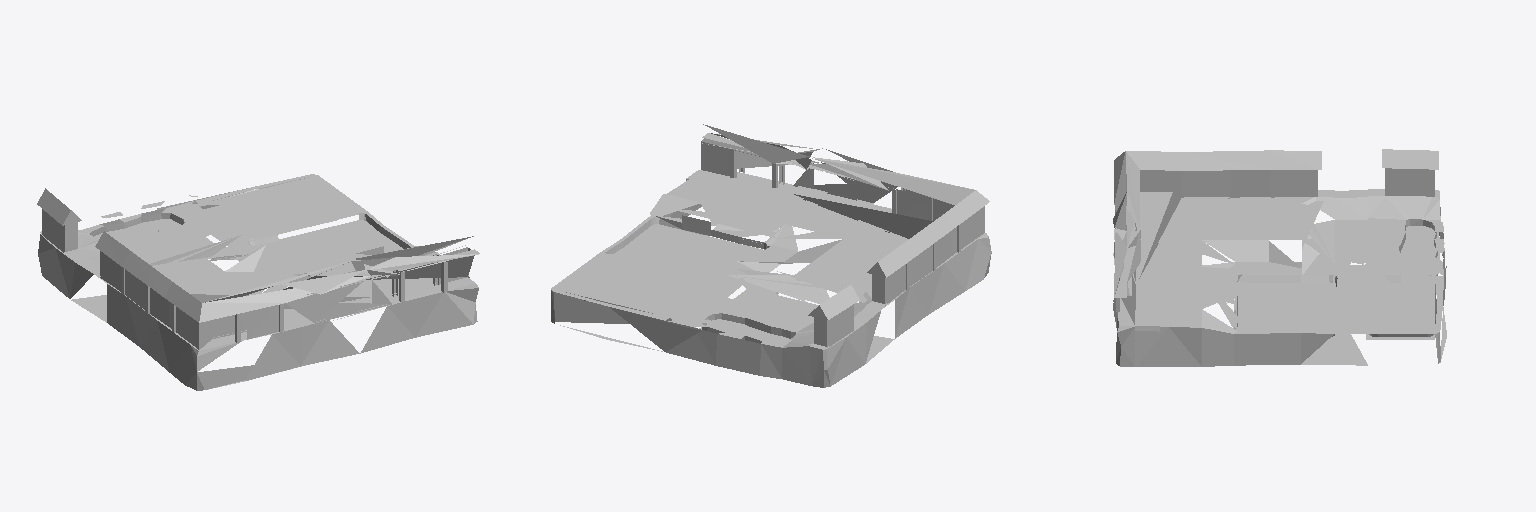
The model's file is test_map0.obj.
The picture shows the model from 3 angles: view 1: azimuth 30°, elevation 25°; view 2: azimuth 150°, elevation 25°; view 3: azimuth 270°, elevation 25°; orthographic projection.
Visible parts, largest first — view 1: polygon10, polygon3, polygon1, polygon7, polygon8, polygon11, polygon2, polygon6, polygon5, polygon9, polygon15; view 2: polygon10, polygon3, polygon7, polygon1, polygon11, polygon8, polygon6, polygon2, polygon5, polygon15, polygon9; view 3: polygon10, polygon7, polygon11, polygon1, polygon3, polygon8, polygon6, polygon2, polygon5, polygon15, polygon13, polygon0.
Part boxes in pixels (left/top/right/bottom): polygon10: left=38, top=177, right=478, bottom=390; polygon3: left=42, top=209, right=474, bottom=349; polygon1: left=37, top=188, right=478, bottom=322; polygon7: left=76, top=195, right=439, bottom=319; polygon8: left=41, top=174, right=474, bottom=350; polygon11: left=40, top=229, right=469, bottom=337; polygon2: left=267, top=225, right=392, bottom=273; polygon6: left=149, top=235, right=268, bottom=294; polygon5: left=159, top=260, right=240, bottom=290; polygon9: left=121, top=254, right=447, bottom=342; polygon15: left=254, top=220, right=402, bottom=275; polygon10: left=551, top=204, right=991, bottom=387; polygon3: left=701, top=138, right=984, bottom=347; polygon7: left=588, top=183, right=880, bottom=327; polygon1: left=703, top=124, right=989, bottom=319; polygon11: left=650, top=170, right=908, bottom=347; polygon8: left=551, top=172, right=985, bottom=349; polygon6: left=728, top=239, right=880, bottom=303; polygon2: left=622, top=230, right=751, bottom=279; polygon5: left=795, top=251, right=867, bottom=287; polygon15: left=614, top=224, right=763, bottom=280; polygon9: left=730, top=147, right=960, bottom=289; polygon10: left=1113, top=201, right=1446, bottom=366; polygon7: left=1124, top=190, right=1443, bottom=333; polygon11: left=1129, top=189, right=1439, bottom=332; polygon1: left=1113, top=149, right=1438, bottom=296; polygon3: left=1119, top=168, right=1434, bottom=324; polygon8: left=1116, top=190, right=1444, bottom=333; polygon6: left=1202, top=204, right=1334, bottom=274; polygon2: left=1248, top=288, right=1334, bottom=339; polygon5: left=1235, top=212, right=1301, bottom=239; polygon15: left=1237, top=282, right=1334, bottom=337; polygon13: left=1406, top=229, right=1439, bottom=262; polygon0: left=1138, top=219, right=1398, bottom=272.
Size of the model in its own units: 995 by 276 by 1005.